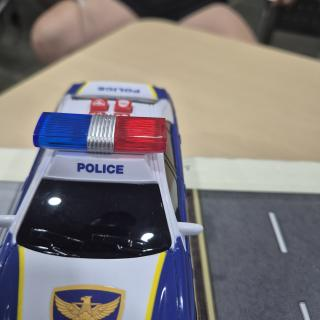Police_car: (0, 82, 203, 320)
